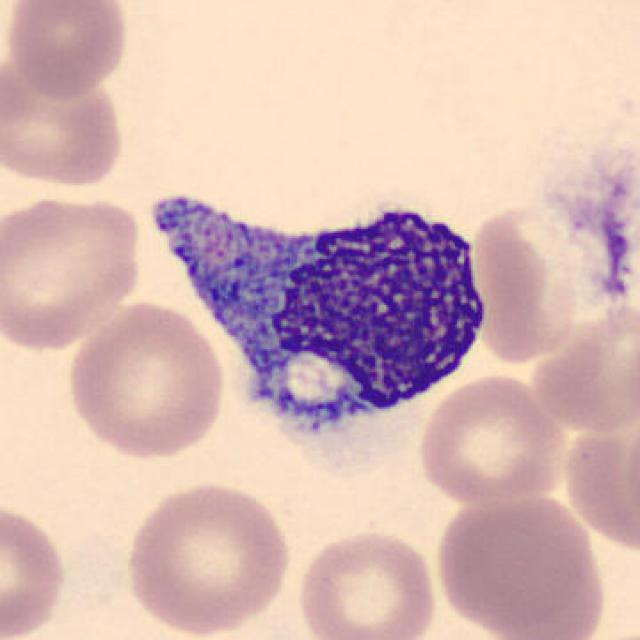Monocyte: (153, 180, 507, 465)
RBC: (119, 478, 295, 638), (62, 298, 230, 462), (430, 488, 606, 636), (0, 188, 148, 352), (466, 199, 612, 365), (414, 370, 569, 506), (0, 58, 128, 192), (293, 525, 441, 640), (534, 303, 640, 436), (1, 0, 133, 100), (567, 399, 640, 556), (0, 499, 71, 640), (576, 622, 640, 640)
